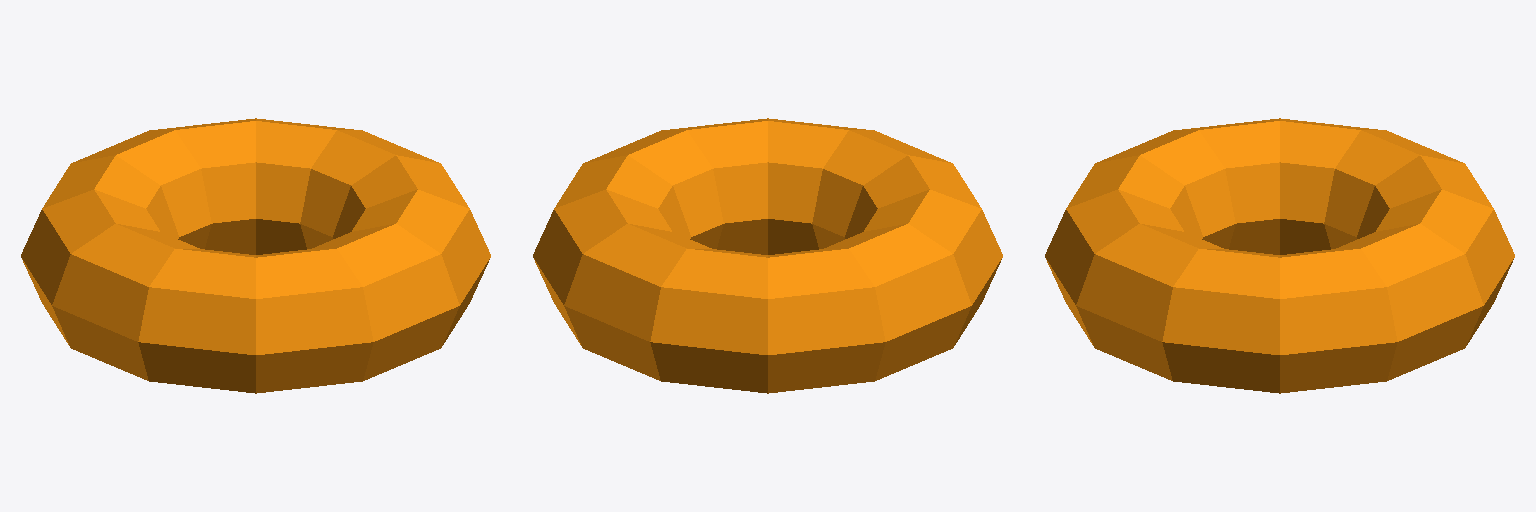
Rendered from Donut.obj.
3 renders of one model, left to right at view 1: azimuth 30°, elevation 25°; view 2: azimuth 150°, elevation 25°; view 3: azimuth 270°, elevation 25°, orthographic.
Parts seen in each view (by area): view 1: Torus; view 2: Torus; view 3: Torus.
Boxes of the visible parts, <box> form: Torus: <box>21,118,490,393</box>; Torus: <box>533,118,1002,393</box>; Torus: <box>1045,118,1514,393</box>.
Bounding box in the file's own units: 1.6 × 0.5 × 1.6.